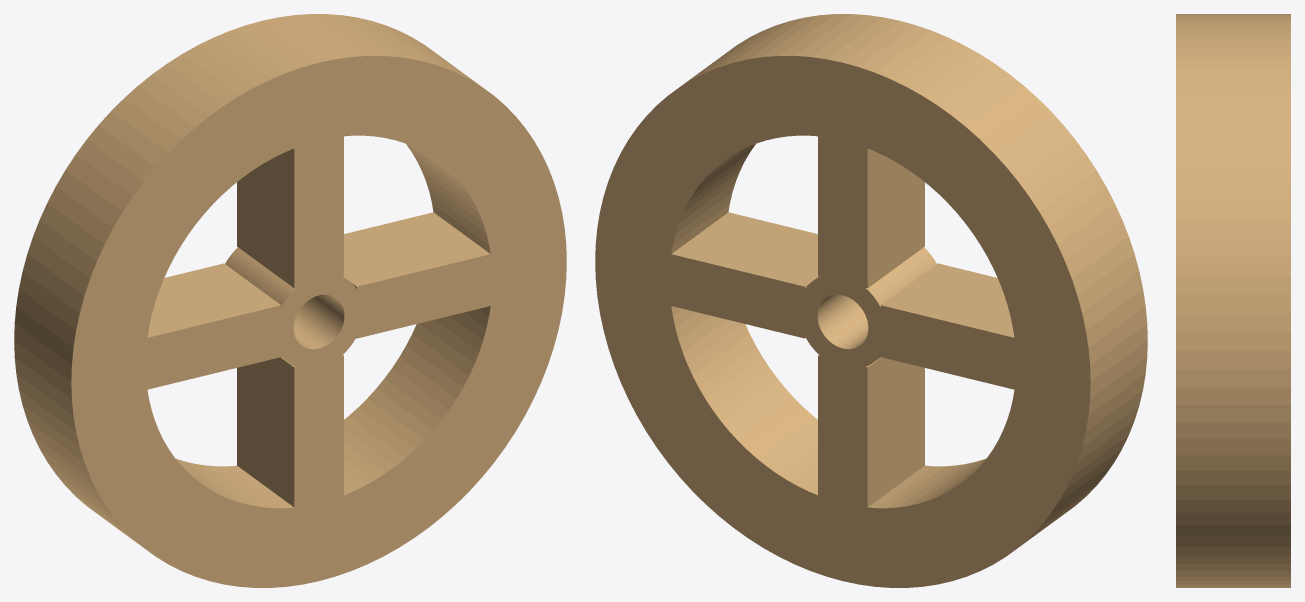
Rendered from flywheel_demo.glb.
3 renders of one model, left to right at view 1: azimuth 30°, elevation 25°; view 2: azimuth 150°, elevation 25°; view 3: azimuth 270°, elevation 25°, orthographic.
Parts seen in each view (by area): view 1: flywheel; view 2: flywheel; view 3: flywheel.
Part boxes in pixels (x1,y1,x2,y2): flywheel: [14, 14, 566, 587]; flywheel: [595, 14, 1147, 587]; flywheel: [1176, 14, 1290, 587].
Size of the model in its own units: 80 by 80 by 16.
